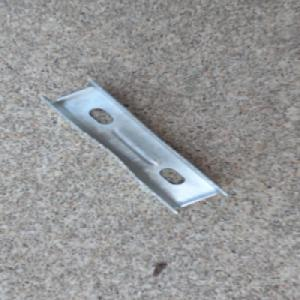ClampPart: (38, 76, 229, 215)
